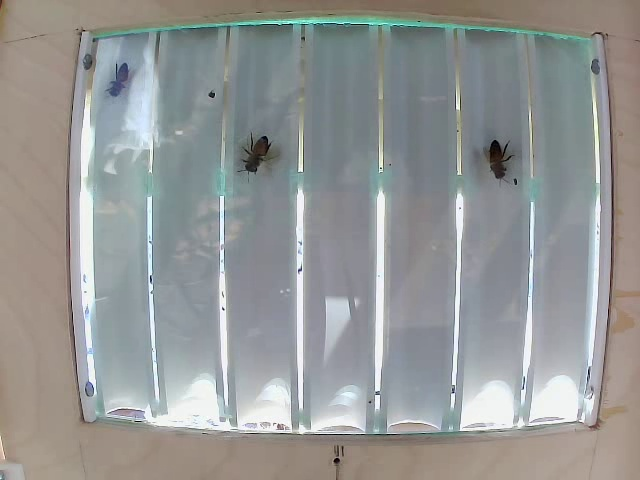bee: (475, 125, 524, 198), (243, 129, 276, 188)
